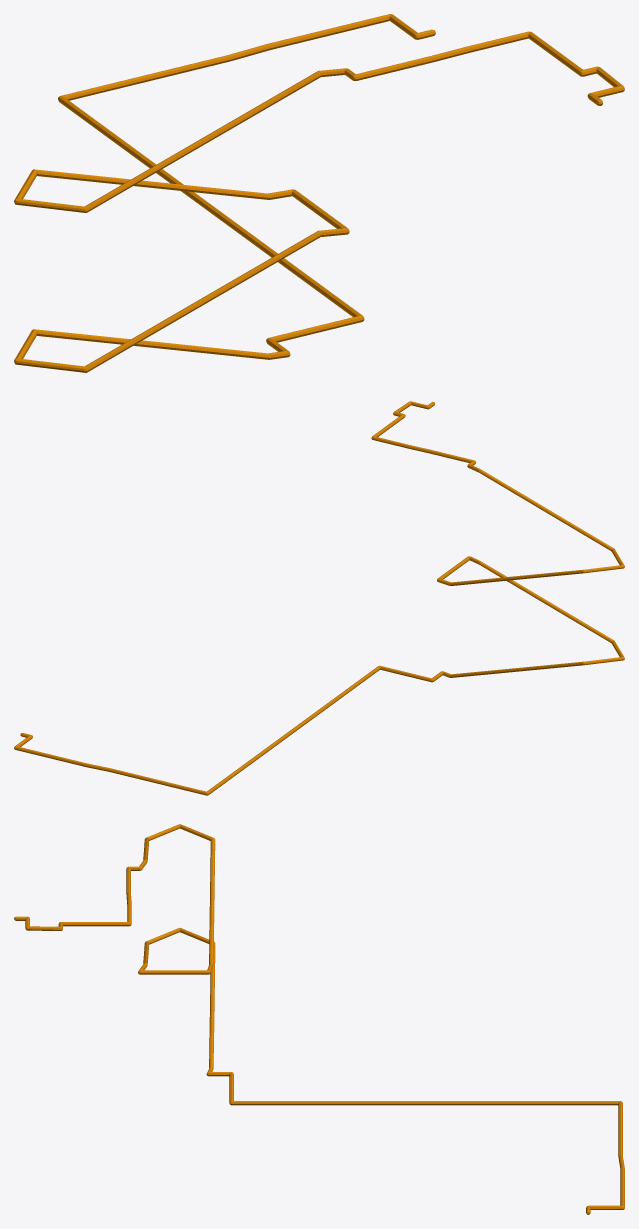
The picture shows the model from 3 angles, top to bottom: view 1: azimuth 30°, elevation 25°; view 2: azimuth 150°, elevation 25°; view 3: azimuth 270°, elevation 25°; orthographic projection. The views are drawn at different scales.
Size of the model in its own units: 2409 by 1020 by 2670.
